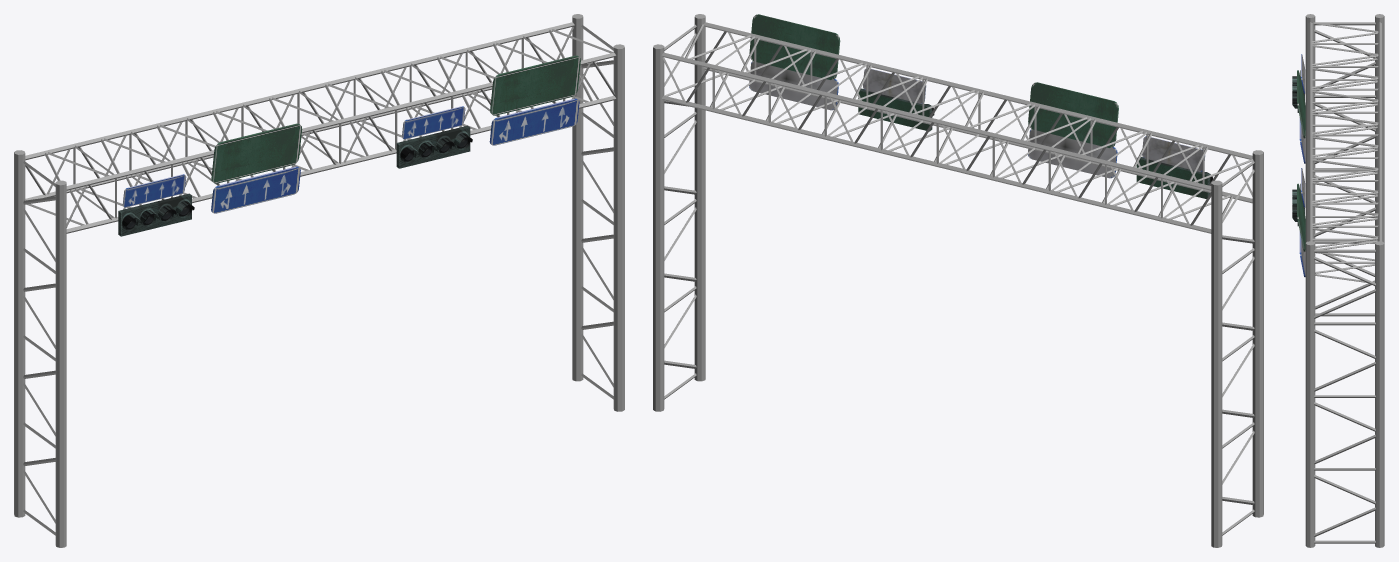
File: hang04.fbx
3 views of the same model, side by side, from view 1: azimuth 30°, elevation 25°; view 2: azimuth 150°, elevation 25°; view 3: azimuth 270°, elevation 25° (orthographic). The views are drawn at different scales.
Visible parts, largest first — view 1: hang_04_1; view 2: hang_04_1; view 3: hang_04_1.
Boxes of the visible parts, x1,y1,x2,y2 form: hang_04_1: (14,14,624,547); hang_04_1: (653,14,1263,547); hang_04_1: (1292,14,1384,547).
Bounding box in the file's own units: 255 × 159 × 42.91.
